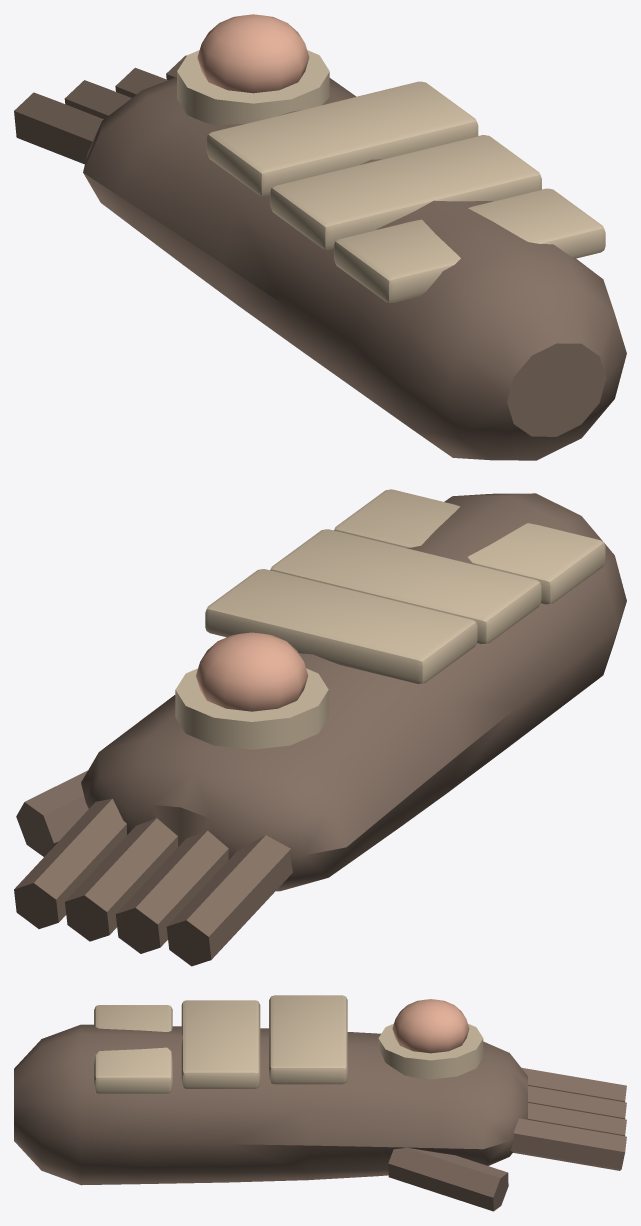
File: tl_gauntlet.gltf
The picture shows the model from 3 angles, top to bottom: view 1: azimuth 30°, elevation 25°; view 2: azimuth 150°, elevation 25°; view 3: azimuth 270°, elevation 25°; orthographic projection. The views are drawn at different scales.
Parts seen in each view (by area): view 1: Body, Ember; view 2: Body, Ember; view 3: Body, Ember.
Boxes of the visible parts, <box> form: Body: <box>14,50,626,460</box>; Ember: <box>197,14,309,93</box>; Body: <box>14,489,626,966</box>; Ember: <box>196,632,308,711</box>; Body: <box>14,995,626,1211</box>; Ember: <box>392,999,469,1053</box>.
Size of the model in its own units: 0.1461 by 0.109 by 0.3503.
